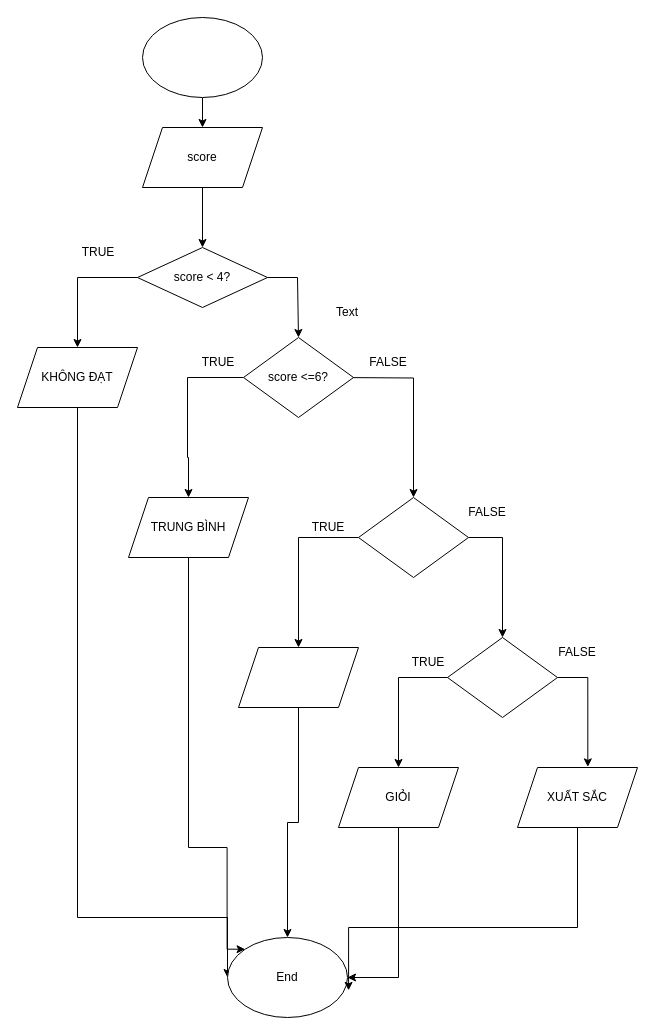
Image size: 655x1035. Some labels were removed from this diagram. Here are the shapes that lost their labels. From the top down, the centre of each, then its label:
the point at 202,57: Start
the point at 413,537: score <= 8?
the point at 298,677: KHÁ
the point at 502,677: score <= 9?
